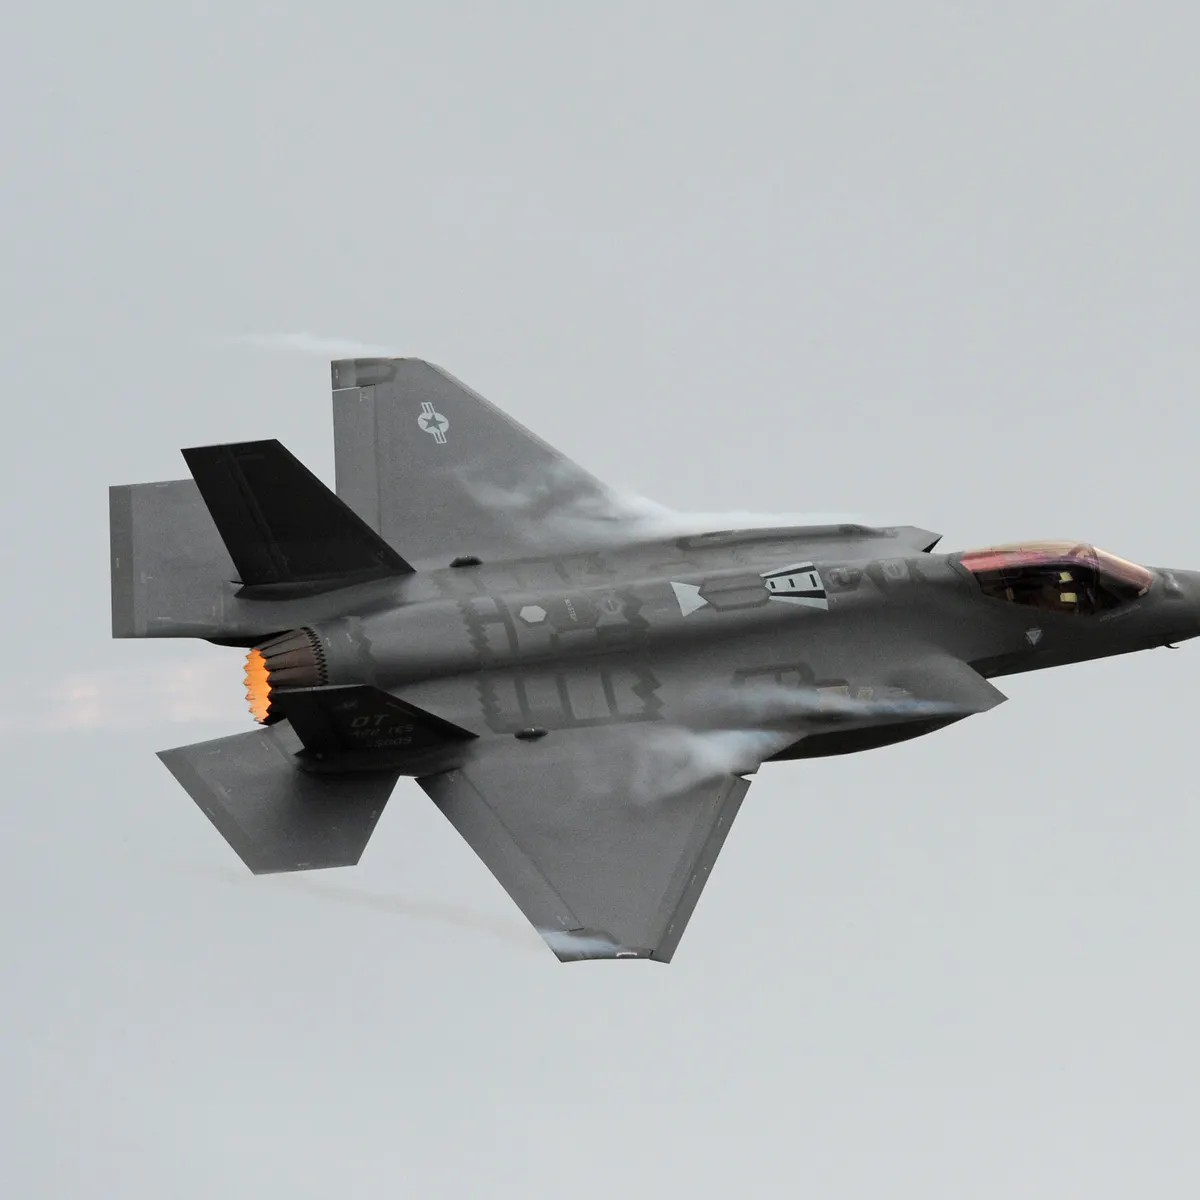F-35 Lightning: (110, 273, 1200, 989)
